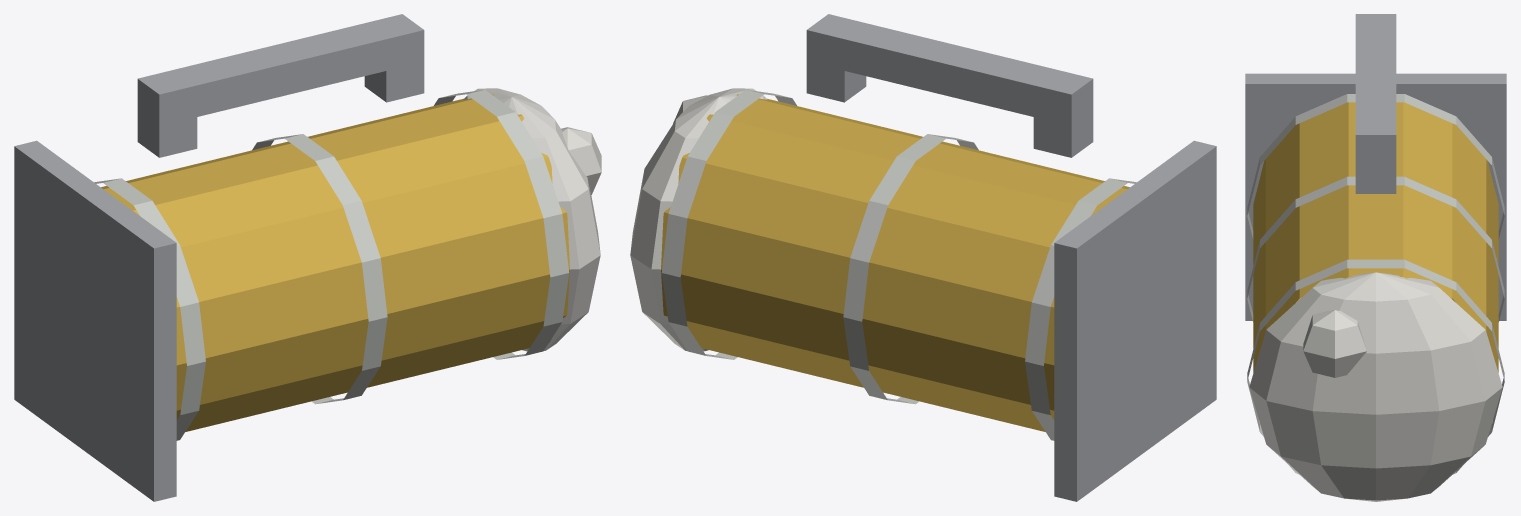
The model's file is beer-stein.glb.
3 renders of one model, left to right at view 1: azimuth 30°, elevation 25°; view 2: azimuth 150°, elevation 25°; view 3: azimuth 270°, elevation 25°, orthographic. The views are drawn at different scales.
Parts seen in each view (by area): view 1: beer-stein; view 2: beer-stein; view 3: beer-stein.
Boxes of the visible parts, <box> form: beer-stein: <box>14,14,601,501</box>; beer-stein: <box>630,14,1216,501</box>; beer-stein: <box>1245,14,1506,501</box>.
Bounding box in the file's own units: 15 × 10.08 × 7.33.
